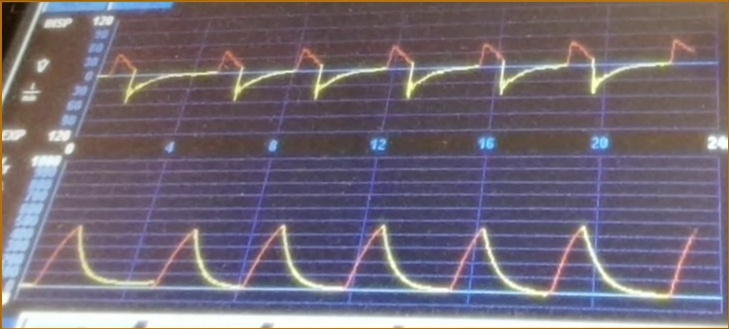Accumulation Flow: (114, 32, 697, 129)
Volume: (48, 204, 694, 312)
